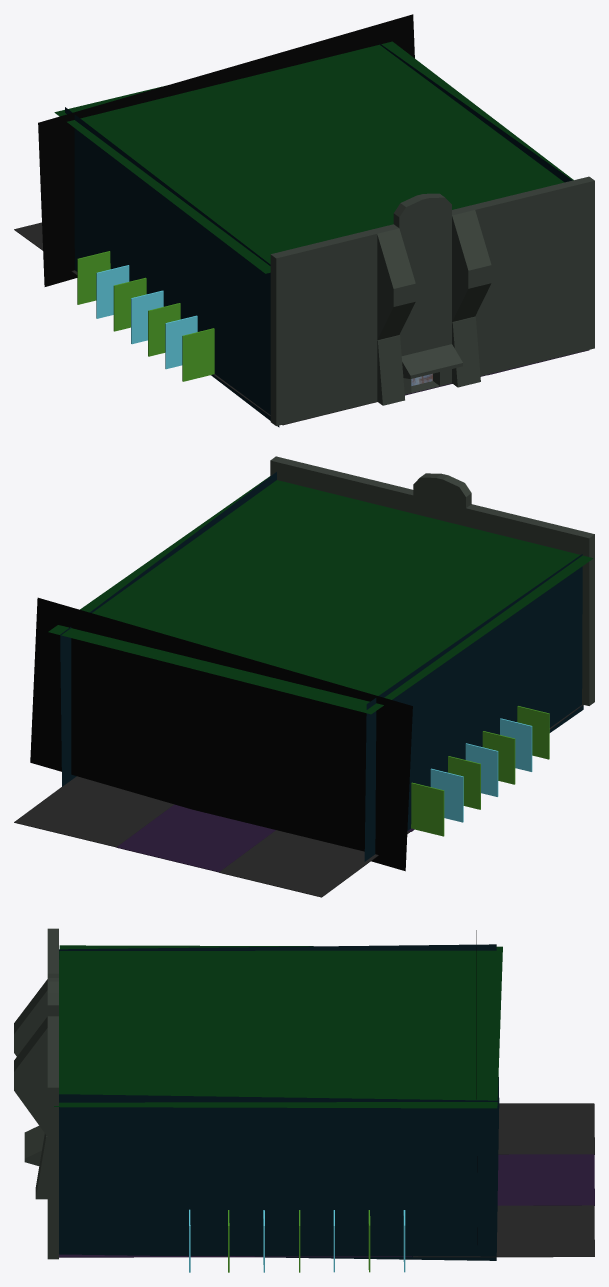
File: J_Archive.fbx
The picture shows the model from 3 angles, top to bottom: view 1: azimuth 30°, elevation 25°; view 2: azimuth 150°, elevation 25°; view 3: azimuth 270°, elevation 25°; orthographic projection. The views are drawn at different scales.
Visible parts, largest first — view 1: Roof, Ext.Wall, Background.001, Background, J-Archive.002, J-Archive.006, J-Archive.004, J-Archive.005, J-Archive, J-Archive.001, J-Archive.003, Background.002; view 2: Roof, Background, Background.001, Ext.Wall, Floor.008, Floor.006, Floor.007, Background.002, J-Archive.006, J-Archive.005, J-Archive.003, J-Archive (+3 smaller); view 3: Roof, Background.002, Ext.Wall, Floor.008, Floor.006, Floor.007, Background.001.
Part boxes in pixels (bbox=[...]): Roof: bbox=[54, 41, 573, 273]; Ext.Wall: bbox=[270, 176, 594, 425]; Background.001: bbox=[65, 107, 279, 427]; Background: bbox=[38, 14, 414, 286]; J-Archive.002: bbox=[182, 328, 214, 381]; J-Archive.006: bbox=[77, 251, 110, 304]; J-Archive.004: bbox=[113, 277, 146, 331]; J-Archive.005: bbox=[96, 265, 129, 318]; J-Archive: bbox=[148, 303, 180, 356]; J-Archive.001: bbox=[165, 315, 197, 369]; J-Archive.003: bbox=[131, 290, 163, 344]; Background.002: bbox=[379, 43, 572, 182]; Roof: bbox=[48, 476, 593, 714]; Background: bbox=[30, 597, 412, 871]; Background.001: bbox=[364, 554, 583, 861]; Ext.Wall: bbox=[270, 456, 594, 705]; Floor.008: bbox=[14, 776, 173, 847]; Floor.006: bbox=[116, 804, 275, 872]; Floor.007: bbox=[219, 830, 409, 897]; Background.002: bbox=[60, 472, 276, 786]; J-Archive.006: bbox=[411, 782, 444, 836]; J-Archive.005: bbox=[430, 768, 463, 822]; J-Archive.003: bbox=[465, 743, 498, 796]; J-Archive: bbox=[482, 731, 515, 784]; Roof: bbox=[54, 945, 502, 1108]; Background.002: bbox=[59, 1094, 499, 1260]; Ext.Wall: bbox=[14, 928, 58, 1259]; Floor.008: bbox=[413, 1205, 594, 1257]; Floor.006: bbox=[497, 1154, 594, 1205]; Floor.007: bbox=[498, 1103, 594, 1154]; Background.001: bbox=[59, 944, 499, 1100].
Bounding box in the file's own units: 22198 × 11147 × 28606.
Materials: 12 (1 with a texture image).
